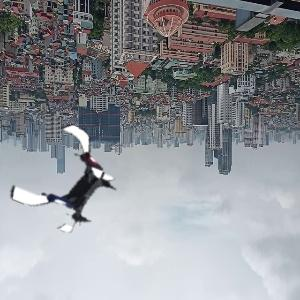drone: (15, 124, 125, 234)
